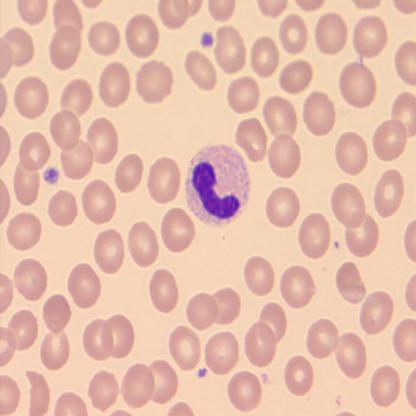Band Neutrophil: (183, 141, 252, 228)
